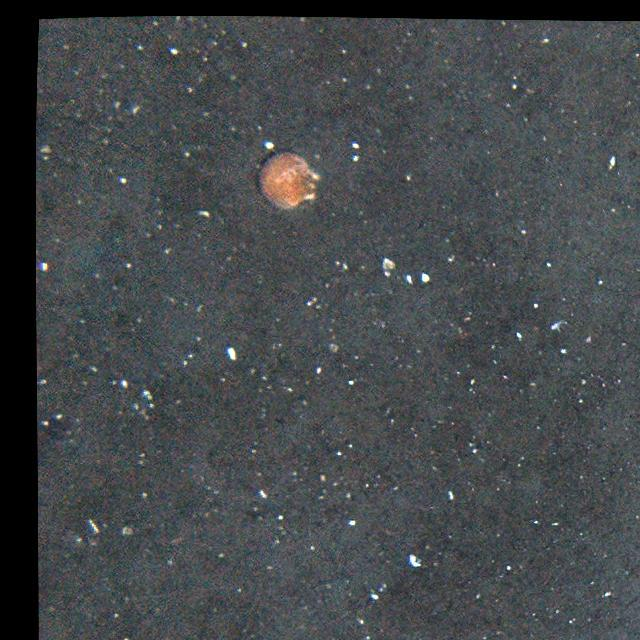scallop: (262, 147, 321, 209)
